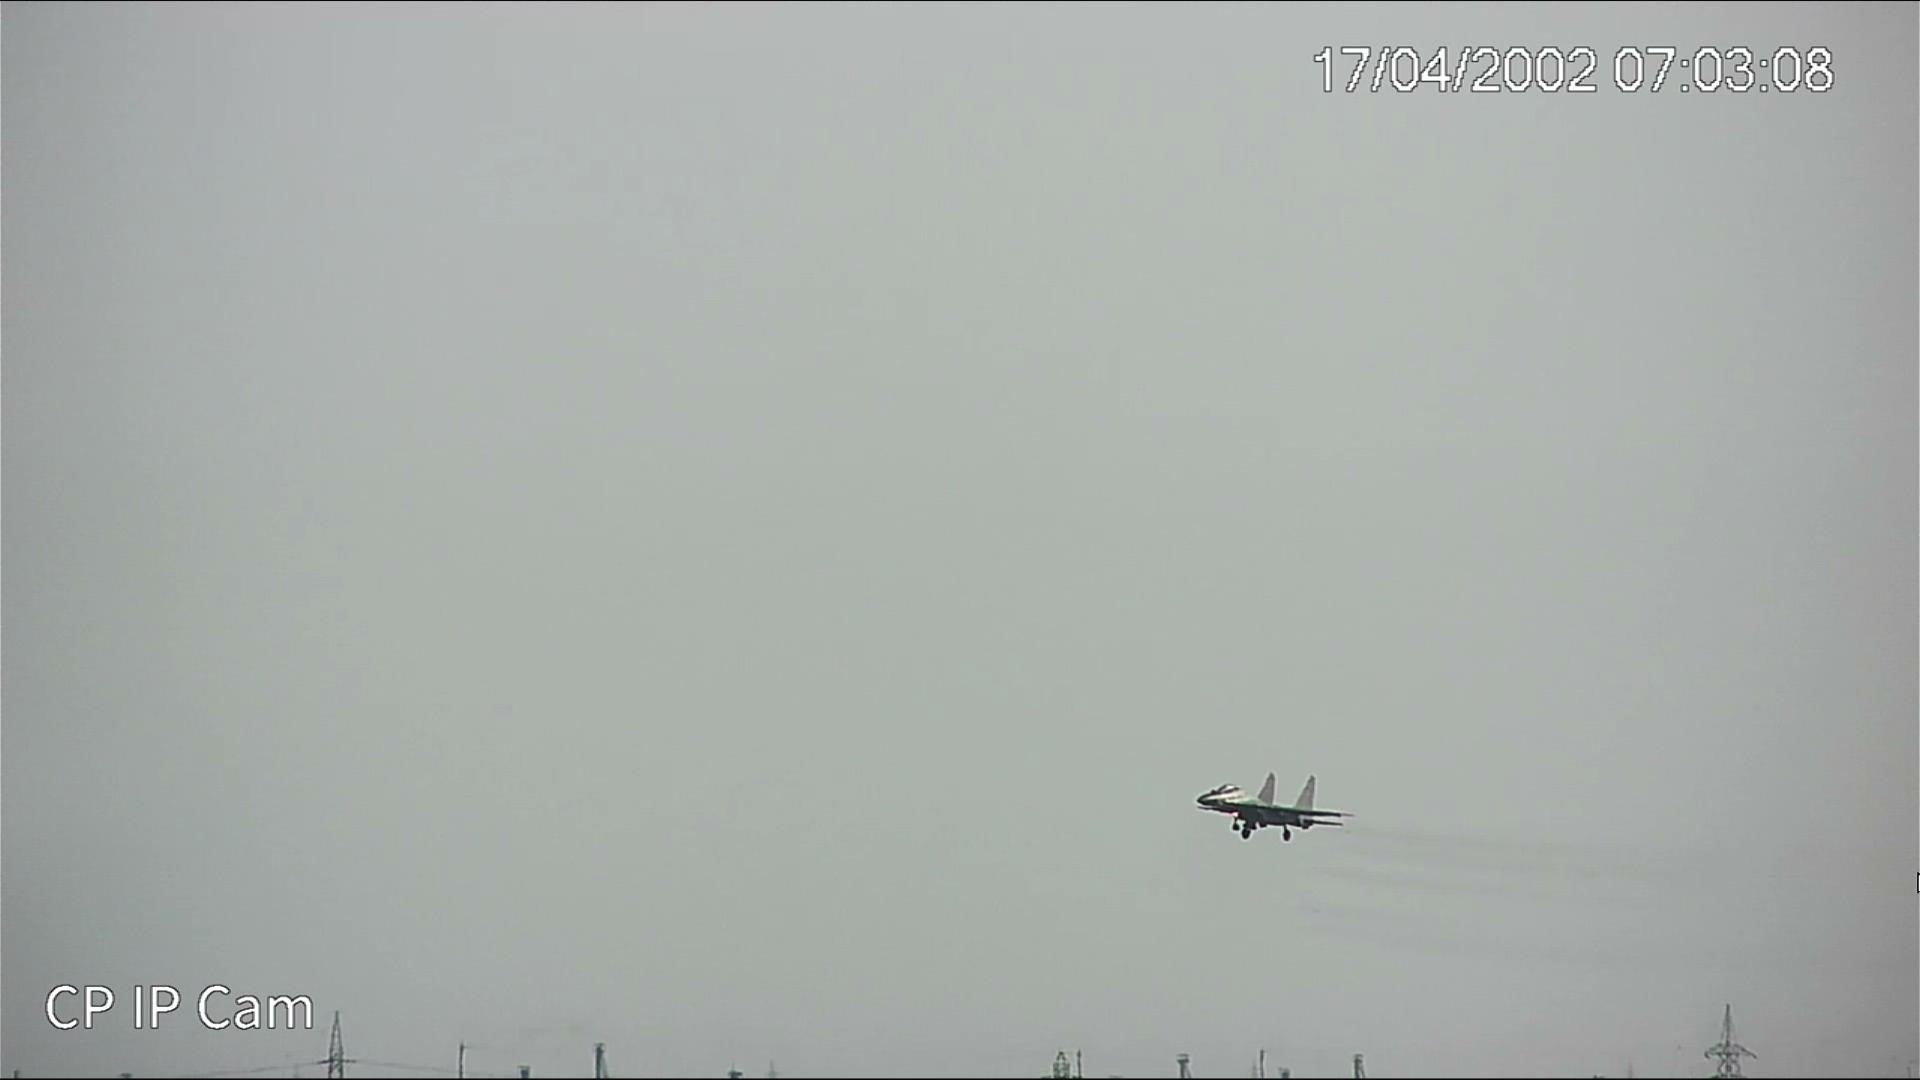SU_30: (1196, 773, 1356, 843)
